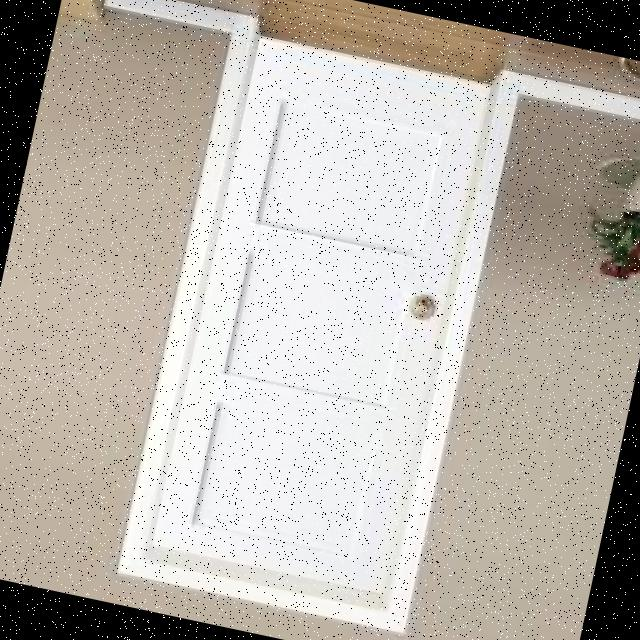Door: (132, 17, 512, 616)
